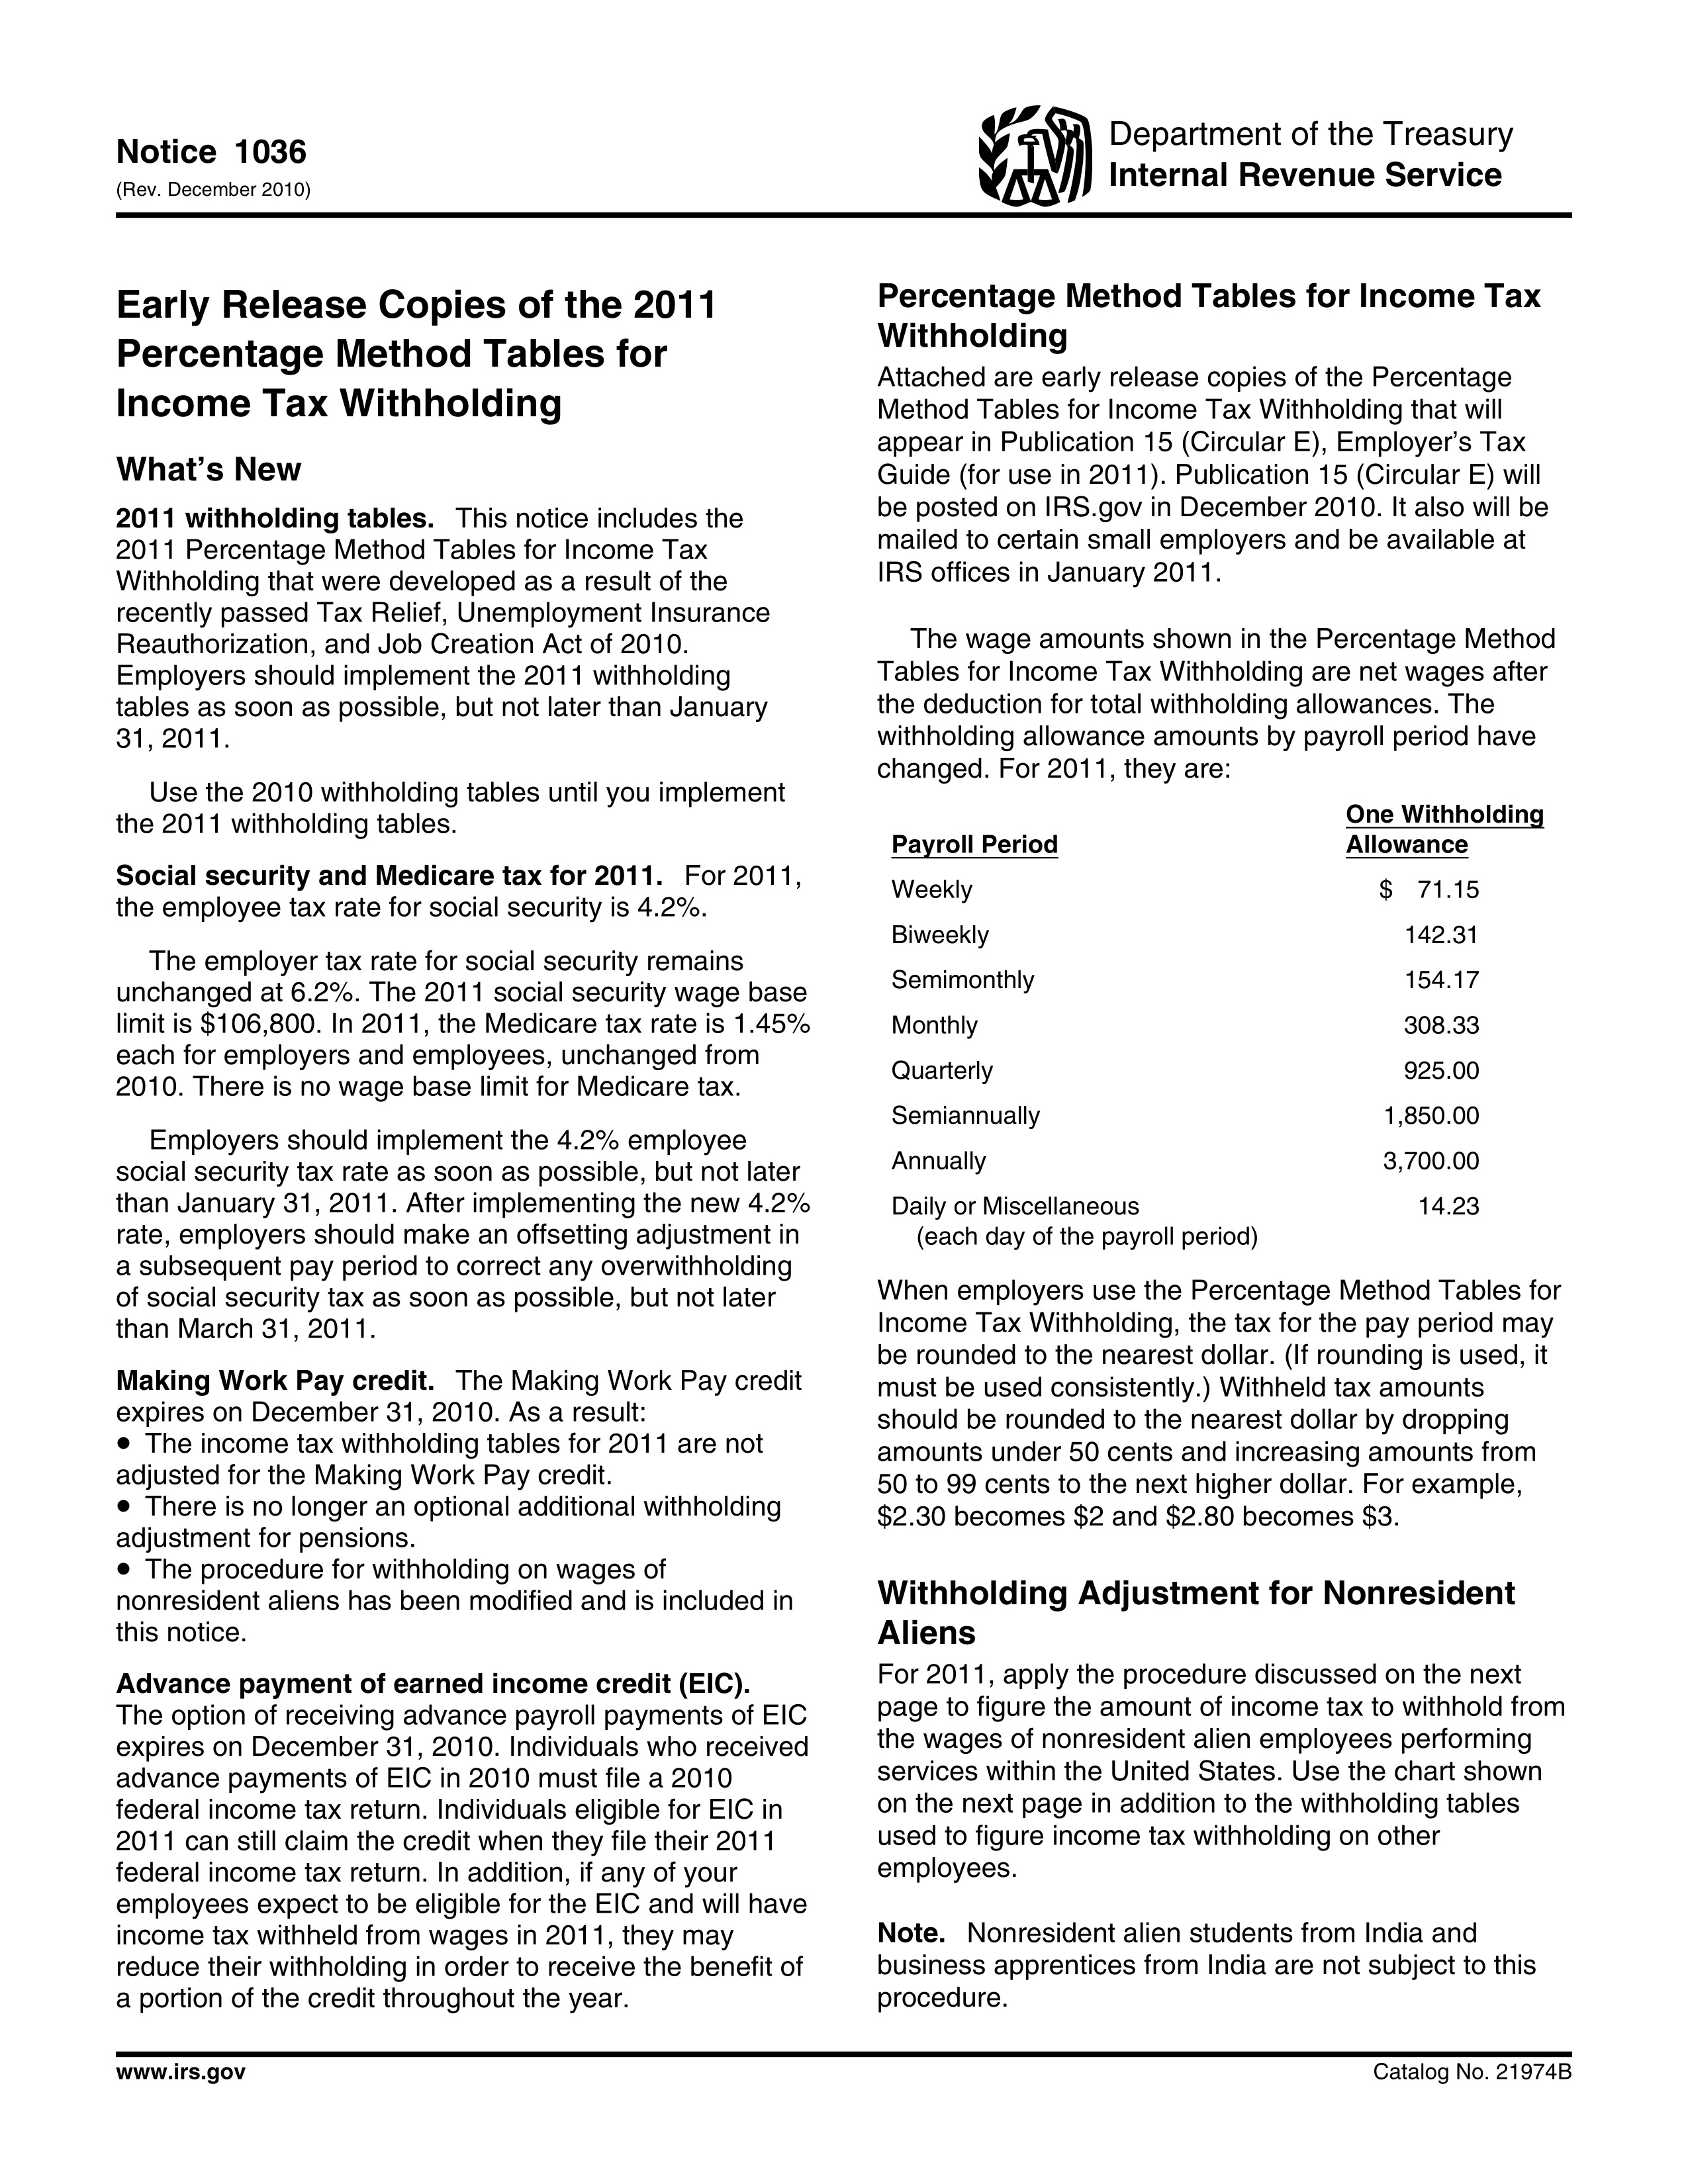table: (892, 803, 1544, 1250)
